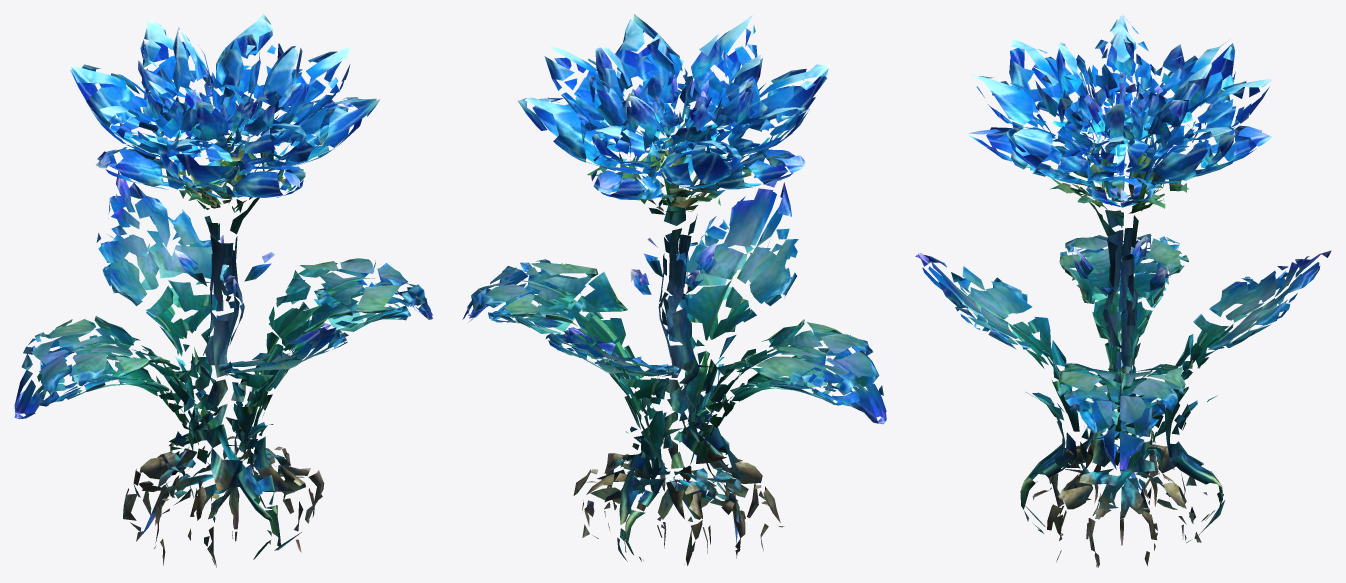
The model's file is plante_loin.glb.
3 renders of one model, left to right at view 1: azimuth 30°, elevation 25°; view 2: azimuth 150°, elevation 25°; view 3: azimuth 270°, elevation 25°, orthographic.
Parts seen in each view (by area): view 1: mesh; view 2: mesh; view 3: mesh.
Boxes of the visible parts, x1,y1,x2,y2 form: mesh: (14, 14, 432, 567); mesh: (462, 14, 886, 565); mesh: (915, 14, 1331, 567).
Size of the model in its own units: 1.7 by 1.88 by 1.48.
Materials: 1 (1 with a texture image).
